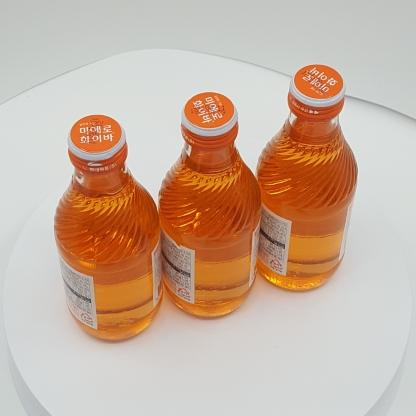--------210ML: (54, 115, 163, 342), (255, 64, 359, 292), (159, 91, 261, 319)
